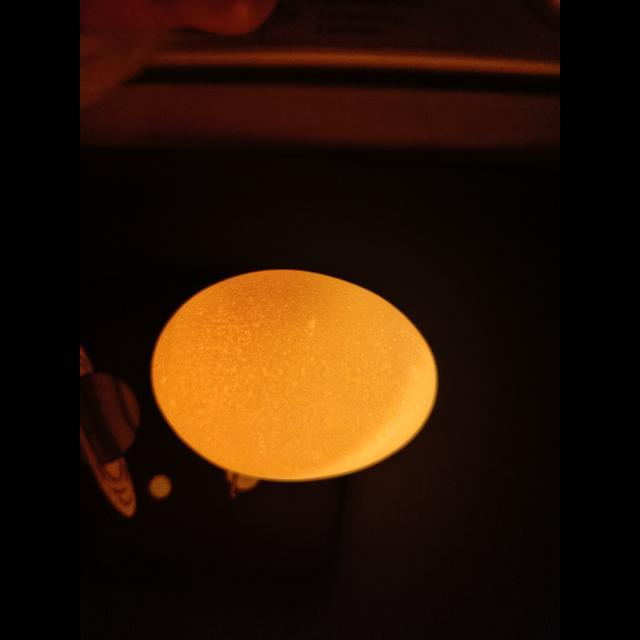AA - Premium: (151, 270, 438, 481)
